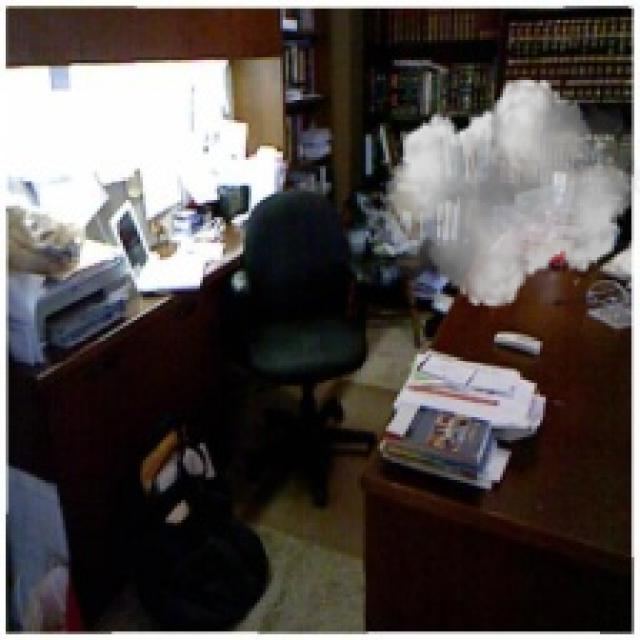smoke: (380, 69, 637, 320)
